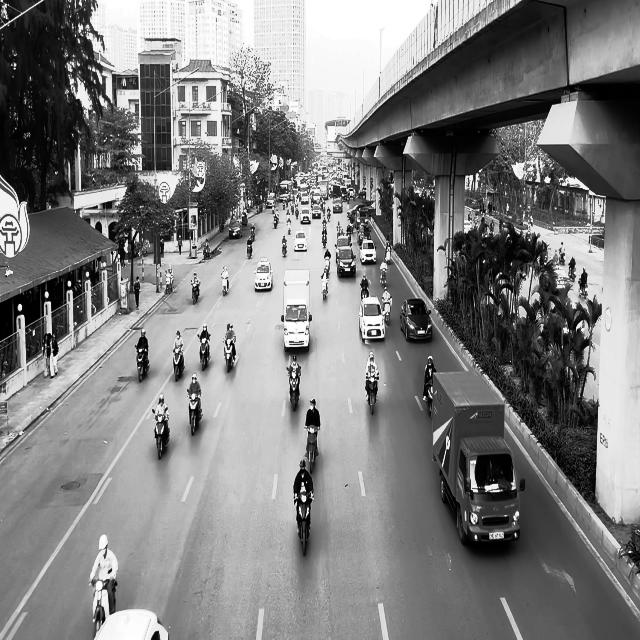car: (94, 608, 169, 640), (400, 297, 432, 342), (358, 296, 385, 343), (539, 264, 572, 298), (336, 246, 356, 277), (254, 260, 272, 292), (359, 239, 377, 264), (294, 230, 307, 251), (228, 220, 242, 239)
motorbike: (90, 577, 118, 638), (294, 491, 313, 556), (151, 408, 170, 459), (304, 424, 320, 474), (186, 390, 202, 436), (287, 365, 301, 411), (135, 345, 149, 382), (223, 334, 236, 373), (366, 376, 378, 415), (198, 333, 210, 370), (172, 348, 185, 381), (424, 383, 433, 417), (382, 297, 392, 325), (191, 278, 200, 304), (321, 272, 329, 299), (578, 278, 588, 298), (221, 273, 229, 296), (246, 240, 252, 259), (282, 236, 287, 256)
truck: (431, 369, 525, 546), (281, 269, 312, 352)
